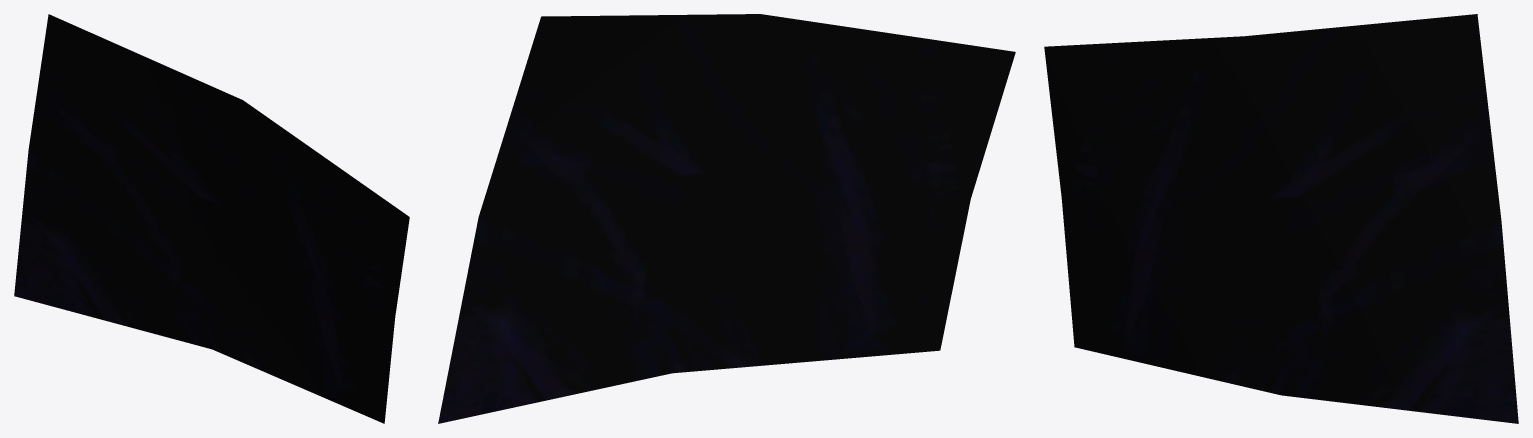
The model's file is SWORDLIGHT20_PS-AREA05-RANGE01_05.fbx.
3 renders of one model, left to right at view 1: azimuth 90°, elevation 25°; view 2: azimuth 150°, elevation 25°; view 3: azimuth 270°, elevation 25°, orthographic. The views are drawn at different scales.
Visible parts, largest first — view 1: SWORDLIGHT20_PS-AREA05-RANGE01_05; view 2: SWORDLIGHT20_PS-AREA05-RANGE01_05; view 3: SWORDLIGHT20_PS-AREA05-RANGE01_05.
Boxes of the visible parts, box(x1,y1,x2,y2) form: SWORDLIGHT20_PS-AREA05-RANGE01_05: box(14, 14, 409, 423); SWORDLIGHT20_PS-AREA05-RANGE01_05: box(438, 14, 1015, 423); SWORDLIGHT20_PS-AREA05-RANGE01_05: box(1044, 14, 1518, 423).
Size of the model in its own units: 160543 by 218676 by 227995.
Materials: 1 (1 with a texture image).
